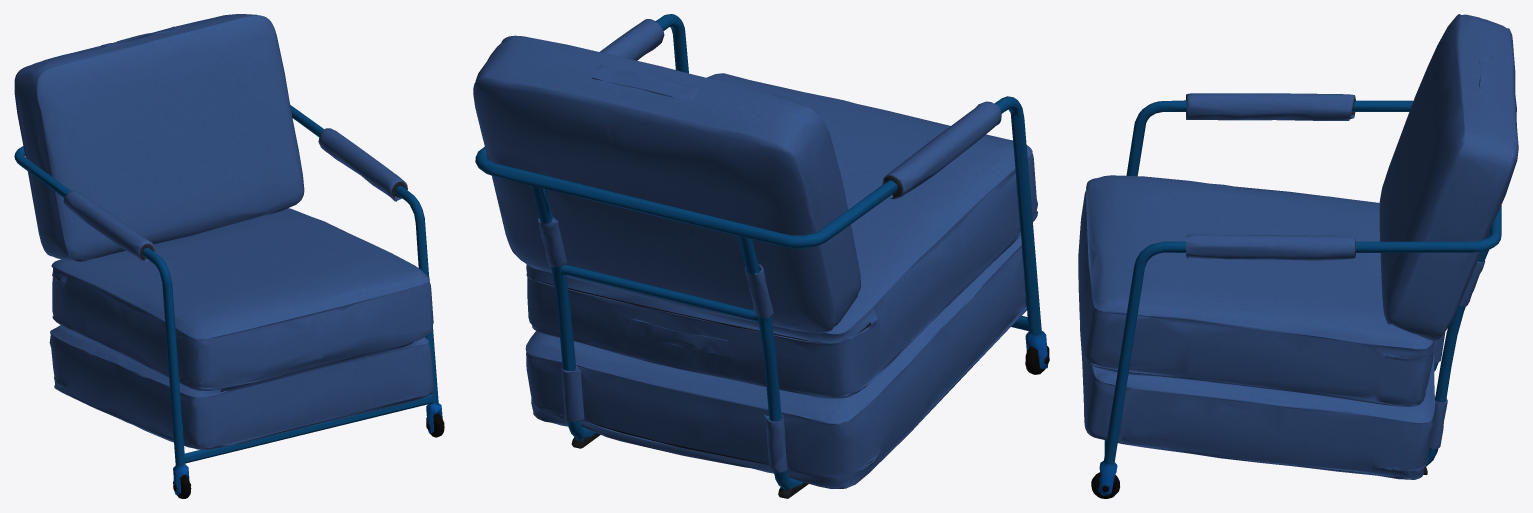
The model's file is brannboll_fotel_gamingowy_70586615.glb.
The picture shows the model from 3 angles, left to right: view 1: azimuth 30°, elevation 25°; view 2: azimuth 150°, elevation 25°; view 3: azimuth 270°, elevation 25°; orthographic projection. The views are drawn at different scales.
Visible parts, largest first — view 1: brannboll_fotel_gamingowy_70586615; view 2: brannboll_fotel_gamingowy_70586615; view 3: brannboll_fotel_gamingowy_70586615.
Boxes of the visible parts, box(x1,y1,x2,y2) form: brannboll_fotel_gamingowy_70586615: box(14, 14, 444, 498); brannboll_fotel_gamingowy_70586615: box(473, 14, 1049, 498); brannboll_fotel_gamingowy_70586615: box(1078, 14, 1518, 498).
Size of the model in its own units: 0.7268 by 0.8 by 0.8871.
2 materials, 2 textured.
